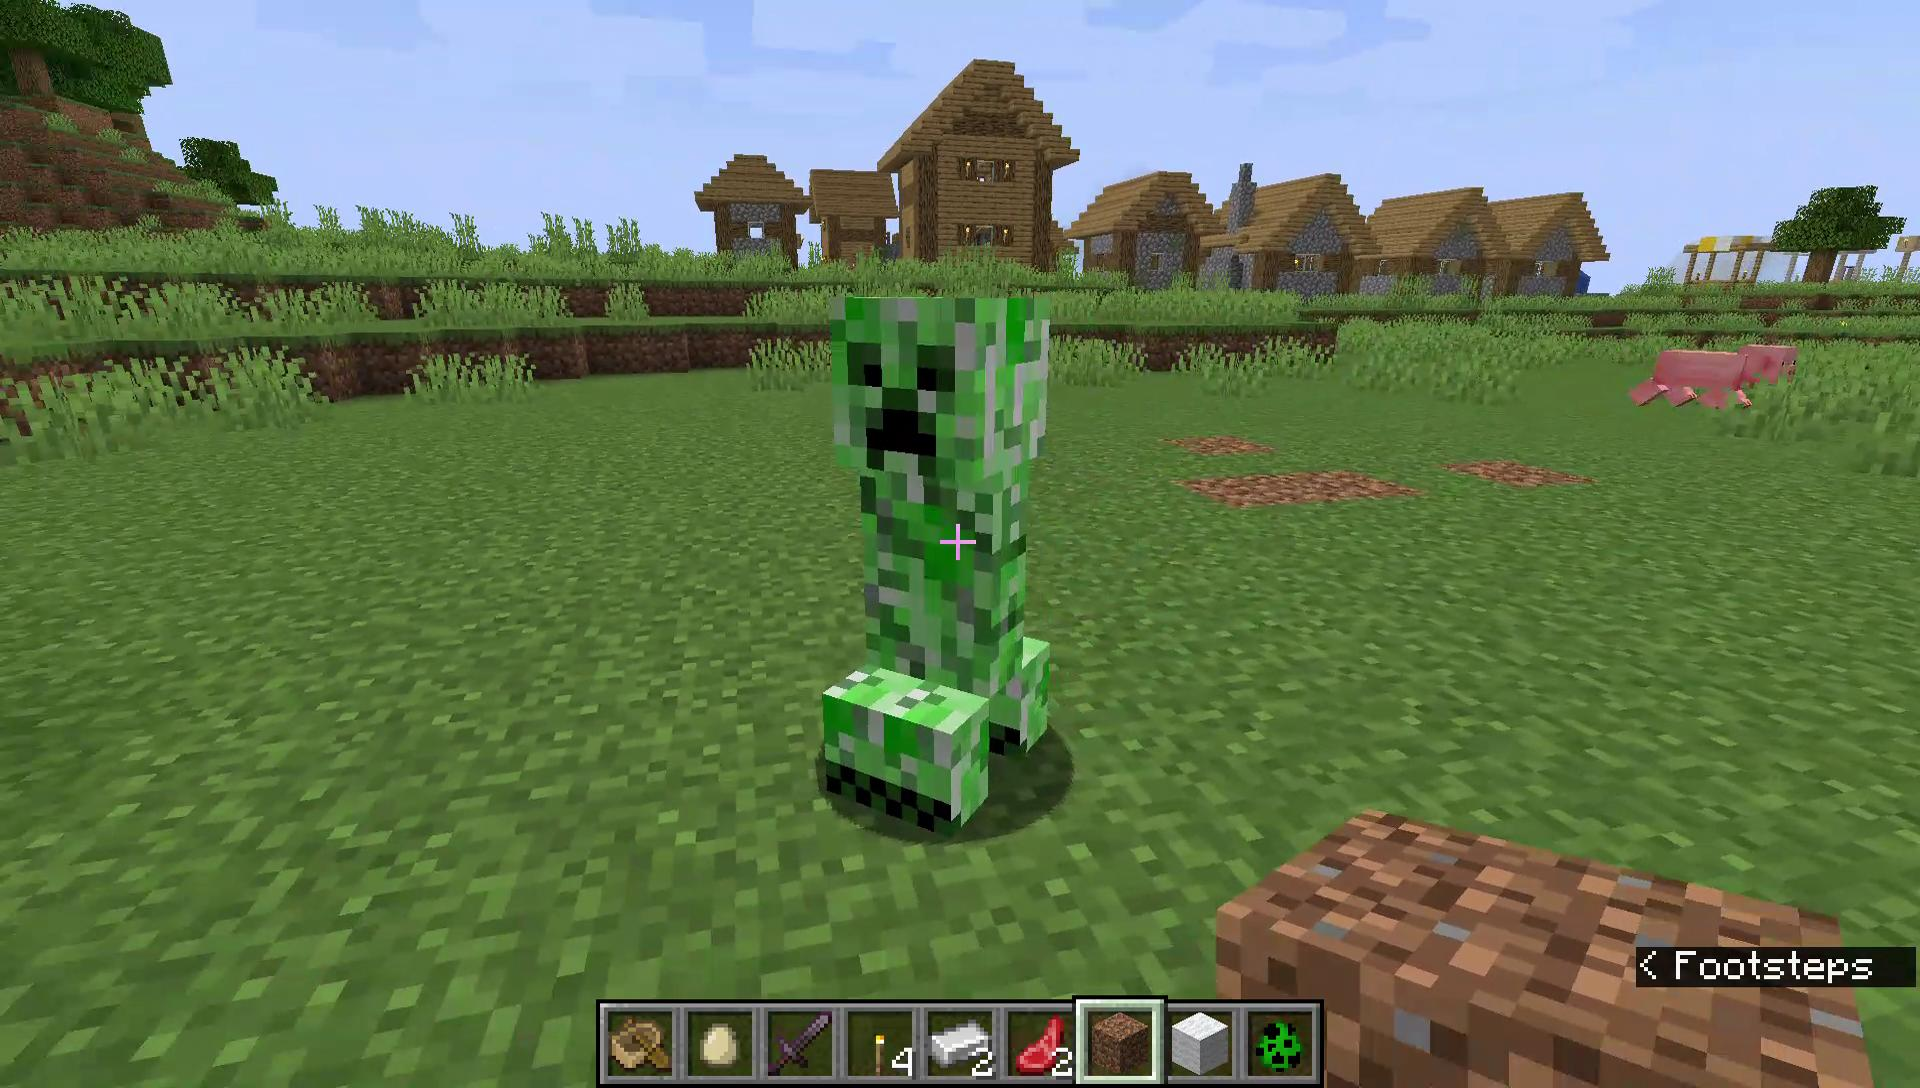creeper: (819, 287, 1059, 844)
